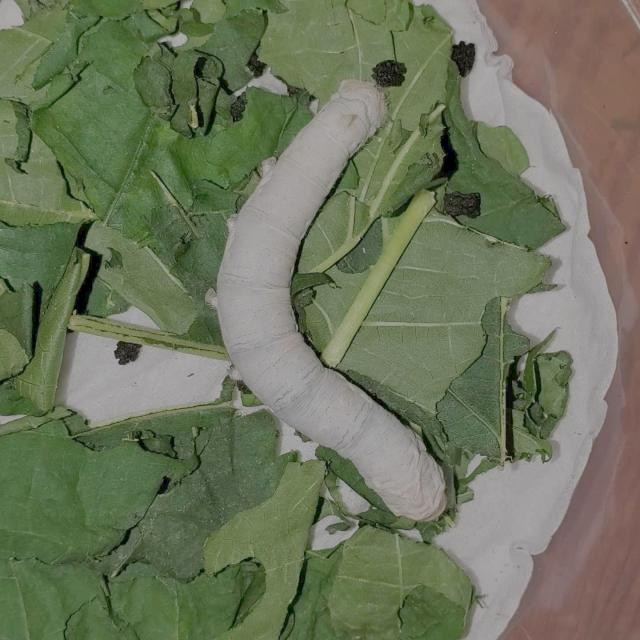Healthy: (208, 69, 468, 531)
